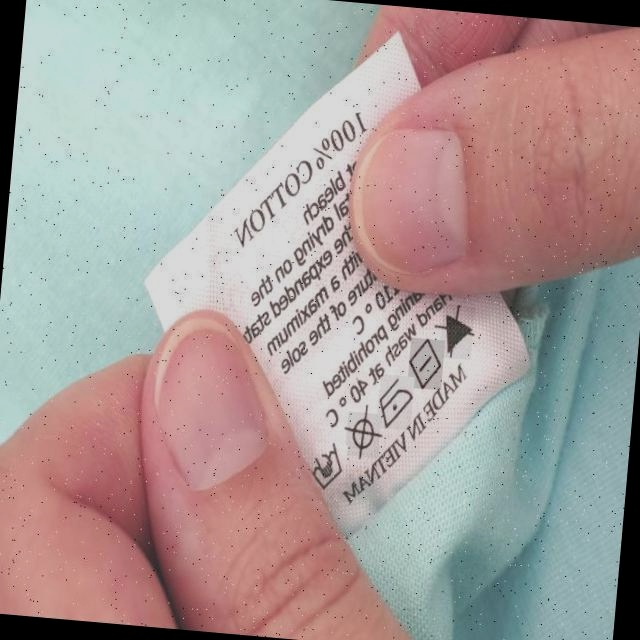DN_bleach: (435, 310, 479, 355)
DN_dry_clean: (344, 408, 381, 454)
dry_flat: (405, 340, 444, 390)
hand_wash: (302, 442, 344, 490)
iron_low: (375, 380, 413, 429)
